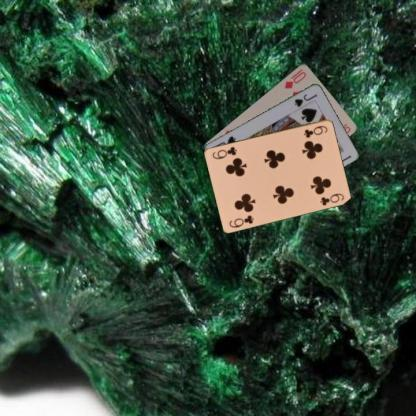10d: (282, 66, 307, 90)
6c: (226, 212, 256, 229), (301, 123, 329, 139)
Js: (292, 91, 318, 108)
